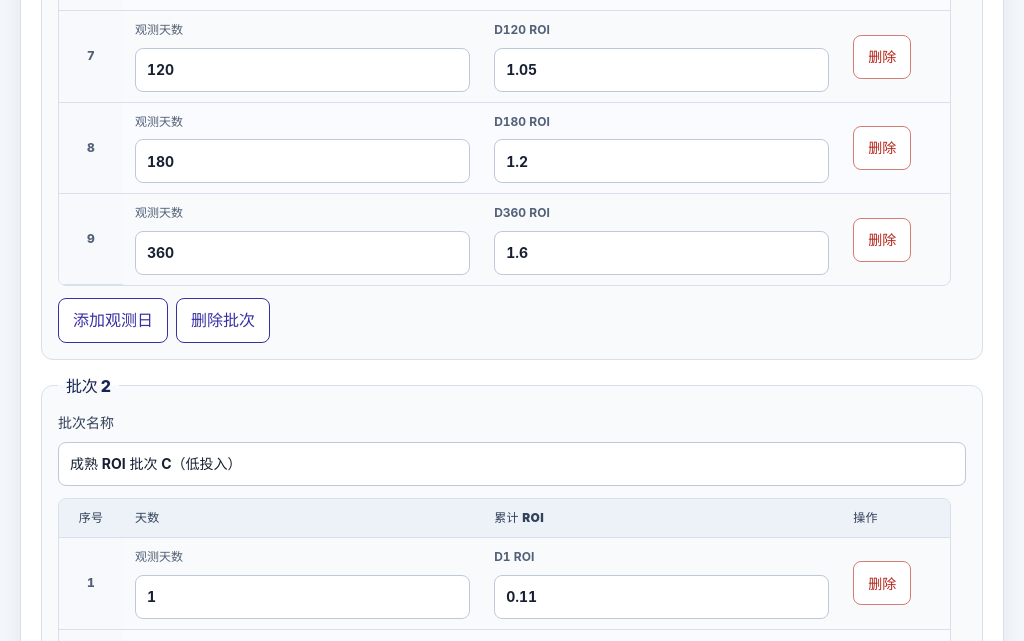
historical cohort input › supports arbitrary observation days and rejects D361
The width and height of the screenshot is (1024, 641).
(page scrolled)
Click the button "添加观测日" at [113, 320], box [58,298,168,343]
(page scrolled)
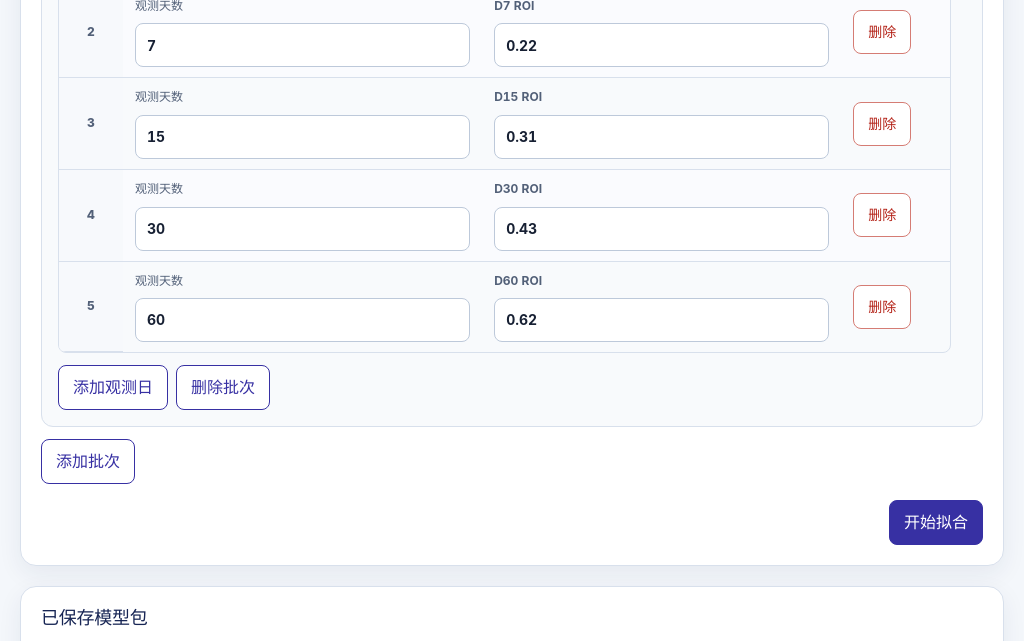
Replace the text in the 5th field labelled "观测天数" with "45" at [303, 320], box [135,298,470,342]
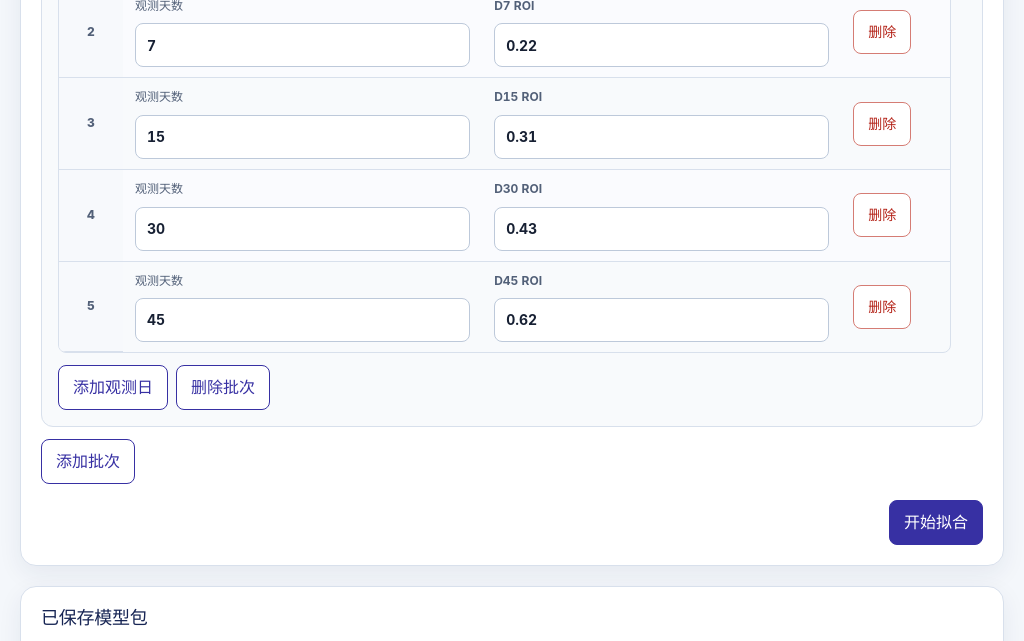
Expected: the field labelled "D45 ROI" is shown, [494,298,829,342]
Replace the text in the field labelled "观测天数" below "45" with "361" at [303, 320], box [135,298,470,342]
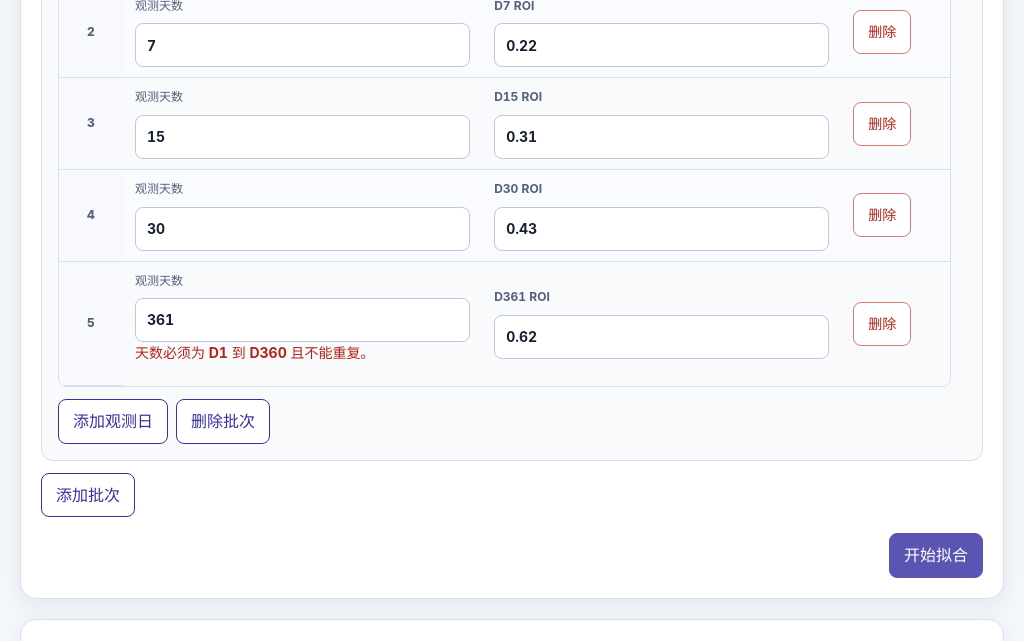
Expected: the text "天数必须为 D1 到 D360 且不能重复。" is shown, [135,344,374,361]
